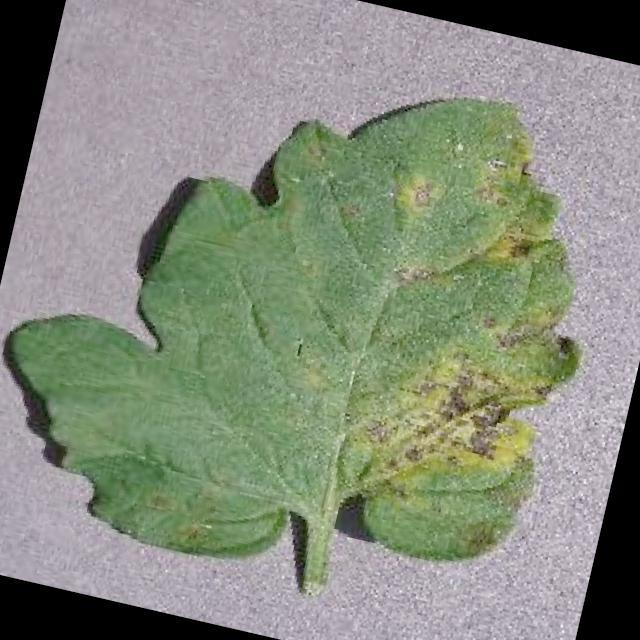Tomato Septoria spot leaf: (0, 3, 631, 625)
